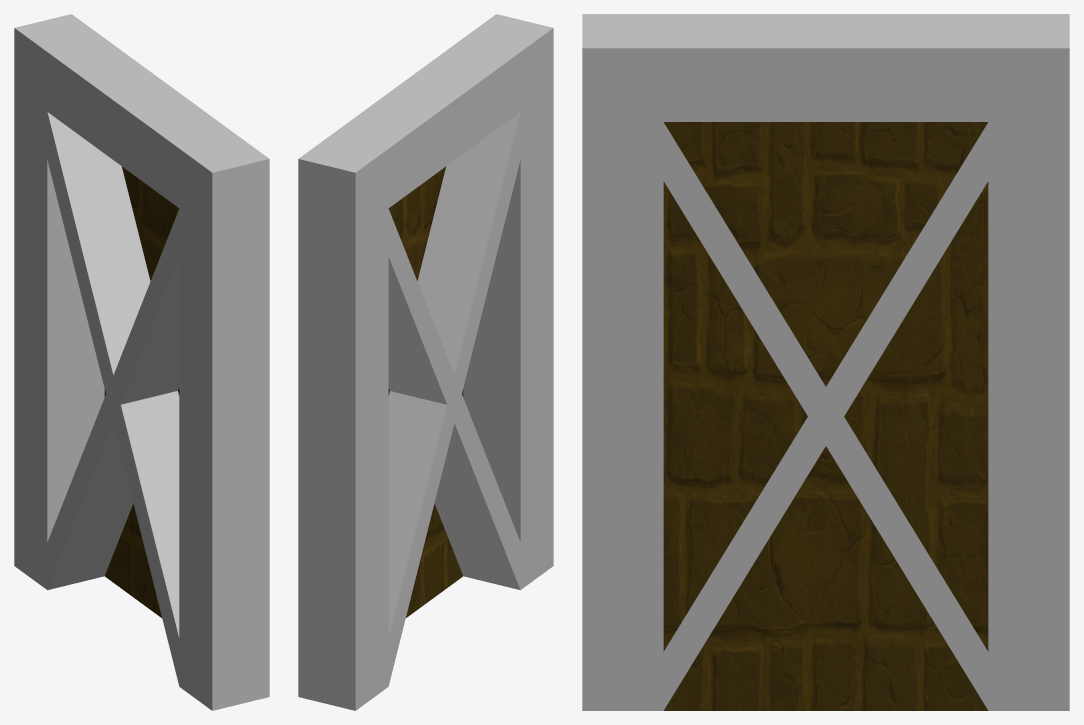
File: WallShortCross.fbx
3 views of the same model, side by side, from view 1: azimuth 30°, elevation 25°; view 2: azimuth 150°, elevation 25°; view 3: azimuth 270°, elevation 25° (orthographic). The views are drawn at different scales.
Parts seen in each view (by area): view 1: WallShortCross; view 2: WallShortCross; view 3: WallShortCross.
Part boxes in pixels (bbox=[...]): WallShortCross: bbox=[14, 14, 269, 710]; WallShortCross: bbox=[298, 14, 553, 710]; WallShortCross: bbox=[582, 14, 1069, 710].
Bounding box in the file's own units: 1 × 9 × 6.
